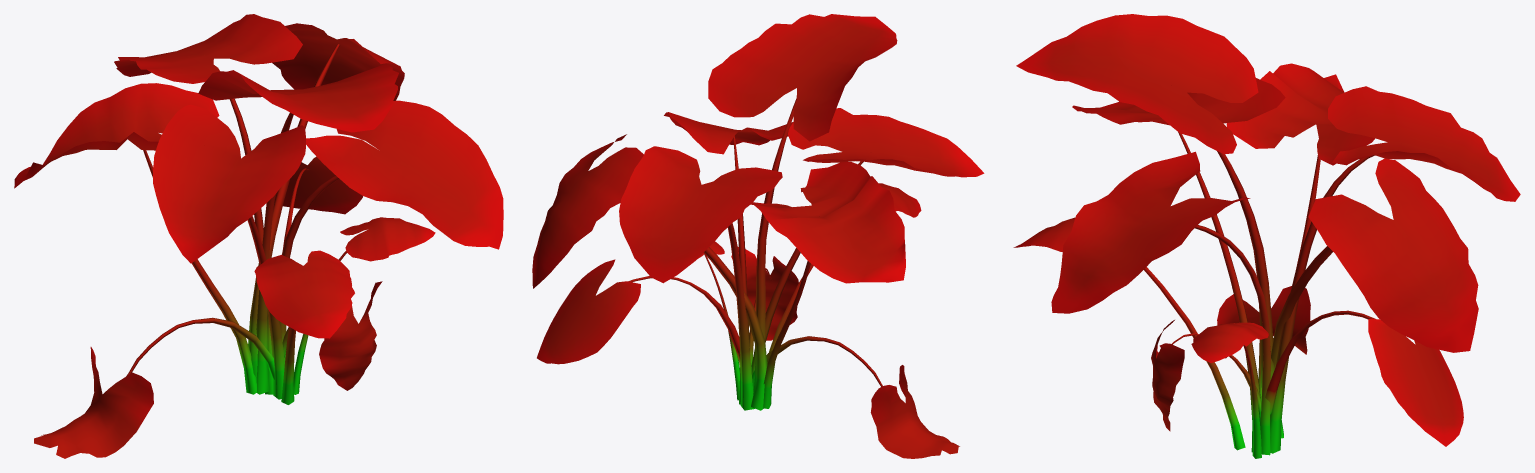
Rendered from F01_Taro_04.fbx.
3 renders of one model, left to right at view 1: azimuth 30°, elevation 25°; view 2: azimuth 150°, elevation 25°; view 3: azimuth 270°, elevation 25°, orthographic. The views are drawn at different scales.
Parts seen in each view (by area): view 1: _e59a_Var4_LOD0; view 2: _e59a_Var4_LOD0; view 3: _e59a_Var4_LOD0.
Part boxes in pixels (x1=…): _e59a_Var4_LOD0: x1=14, y1=14, x2=503, y2=458; _e59a_Var4_LOD0: x1=532, y1=14, x2=984, y2=458; _e59a_Var4_LOD0: x1=1013, y1=14, x2=1520, y2=458.
Bounding box in the file's own units: 132 × 116 × 135.
